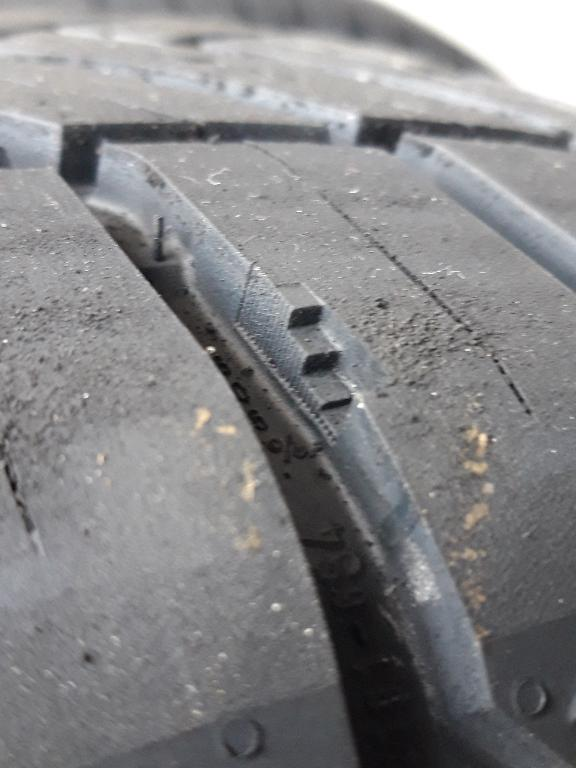temoin:75: (255, 279, 404, 456)
